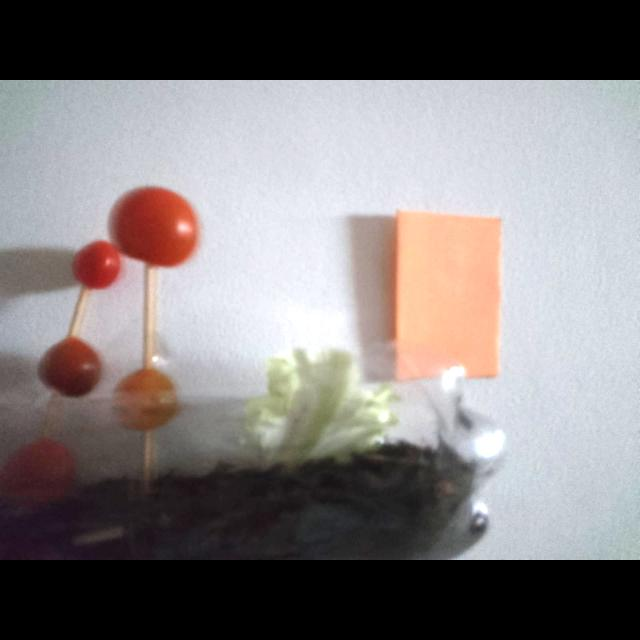card: (394, 210, 500, 376)
fruit_maturation: (116, 368, 177, 431)
fully_grown: (109, 187, 199, 267), (38, 336, 102, 397), (72, 241, 120, 289)
